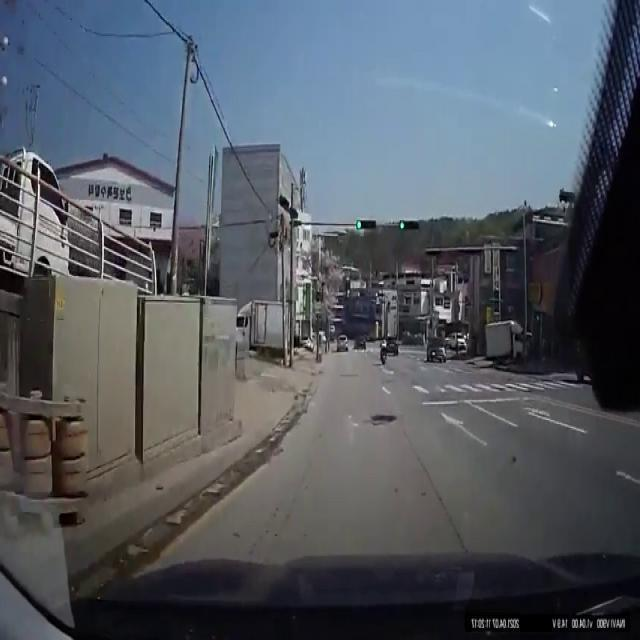pothole: (370, 411, 397, 425)
